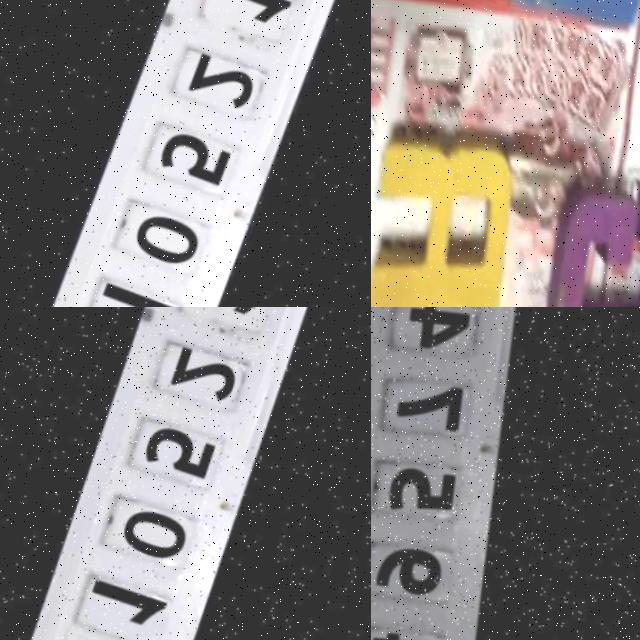0: (108, 201, 219, 291), (96, 496, 205, 584)
1: (68, 571, 174, 640), (194, 0, 302, 57), (173, 307, 280, 346), (77, 273, 184, 307)
2: (166, 46, 276, 135), (148, 339, 257, 427)
4: (378, 307, 495, 382), (371, 614, 454, 640)
5: (371, 447, 478, 546), (138, 122, 245, 210), (123, 416, 228, 502)
7: (371, 363, 482, 461)
9: (371, 527, 464, 625)
G: (533, 186, 640, 307)
R: (371, 116, 520, 307)
